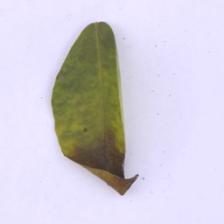black spot: (56, 127, 158, 206)
